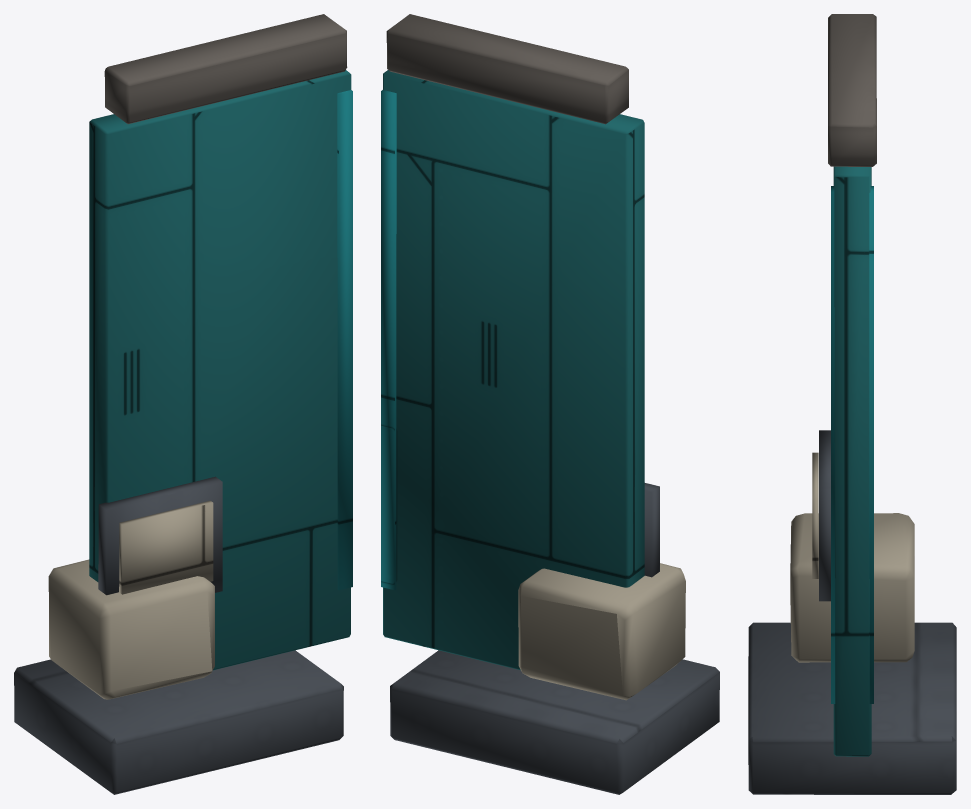
Rendered from ops_narrowband_antenna_blade_lod2.glb.
3 views of the same model, side by side, from view 1: azimuth 30°, elevation 25°; view 2: azimuth 150°, elevation 25°; view 3: azimuth 270°, elevation 25° (orthographic). The views are drawn at different scales.
Visible parts, largest first — view 1: LOD2_Armor, LOD2_Mechanical, LOD2_Hull, LOD2_Ceramic, LOD2_Livery; view 2: LOD2_Armor, LOD2_Mechanical, LOD2_Hull, LOD2_Ceramic, LOD2_Livery; view 3: LOD2_Mechanical, LOD2_Armor, LOD2_Hull, LOD2_Ceramic, LOD2_Livery.
Boxes of the visible parts, x1,y1,x2,y2 form: LOD2_Armor: (89,70,351,670); LOD2_Mechanical: (14,476,343,794); LOD2_Hull: (48,500,214,699); LOD2_Ceramic: (104,14,347,124); LOD2_Livery: (337,90,352,590); LOD2_Armor: (383,70,644,670); LOD2_Mechanical: (390,483,719,794); LOD2_Hull: (518,563,685,700); LOD2_Ceramic: (386,14,628,124); LOD2_Livery: (381,89,396,590); LOD2_Mechanical: (748,430,956,794); LOD2_Armor: (833,166,871,756); LOD2_Hull: (790,452,914,662); LOD2_Ceramic: (828,14,876,166); LOD2_Livery: (831,186,873,703).
Size of the model in its own units: 1.19 by 2.73 by 0.7441.
5 materials, 5 textured.
